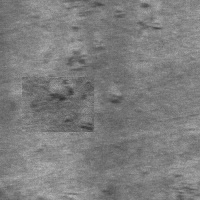rolled-in_scale: (32, 1, 162, 35), (47, 47, 124, 103), (22, 77, 94, 132), (166, 152, 198, 198)
